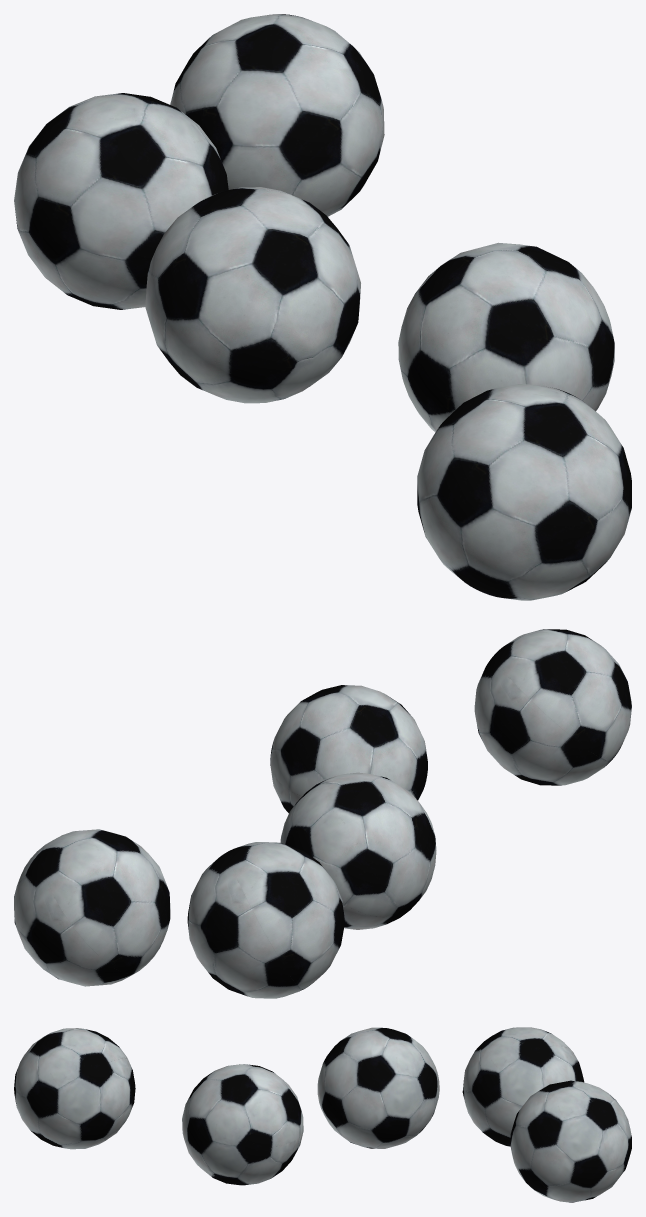
The model's file is SportBall01_08.FBX.
The picture shows the model from 3 angles, top to bottom: view 1: azimuth 30°, elevation 25°; view 2: azimuth 150°, elevation 25°; view 3: azimuth 270°, elevation 25°; orthographic projection. The views are drawn at different scales.
Visible parts, largest first — view 1: SportBalls8_LOD0; view 2: SportBalls8_LOD0; view 3: SportBalls8_LOD0.
Part boxes in pixels (bbox=[...]): SportBalls8_LOD0: bbox=[14, 14, 631, 600]; SportBalls8_LOD0: bbox=[14, 629, 631, 998]; SportBalls8_LOD0: bbox=[14, 1027, 631, 1202].
Size of what is drawn, in the model's own units: 583 by 285 by 1444.
